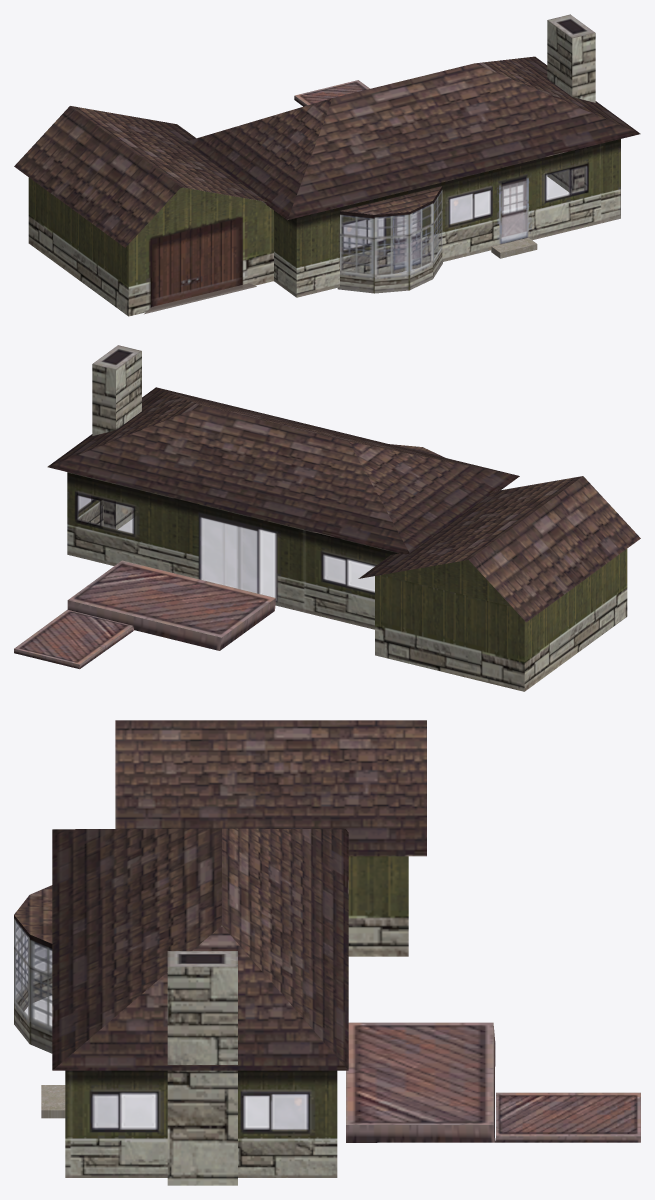
The model's file is Civilian - Residential Building - house 01 - CBhouse01.glb.
3 views of the same model, one above another, from view 1: azimuth 30°, elevation 25°; view 2: azimuth 150°, elevation 25°; view 3: azimuth 270°, elevation 25° (orthographic). The views are drawn at different scales.
Visible parts, largest first — view 1: CBHOUSE01; view 2: CBHOUSE01; view 3: CBHOUSE01.
Boxes of the visible parts, bbox=[...] form: CBHOUSE01: bbox=[14, 14, 640, 316]; CBHOUSE01: bbox=[14, 345, 640, 691]; CBHOUSE01: bbox=[14, 720, 640, 1185].
Bounding box in the file's own units: 89 × 27.37 × 70.
Materials: 1 (1 with a texture image).
